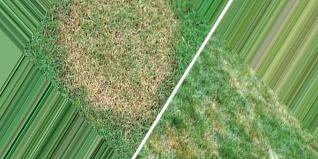patch: (83, 53, 116, 97), (124, 83, 148, 118), (67, 27, 97, 55), (67, 58, 84, 85), (75, 11, 95, 30), (153, 55, 170, 71)
